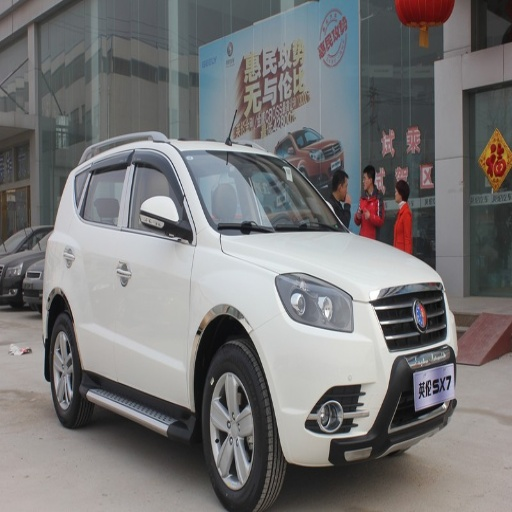front_bumper: (259, 286, 457, 466)
front_right_door: (116, 145, 196, 401)
front_right_light: (276, 273, 354, 330)
